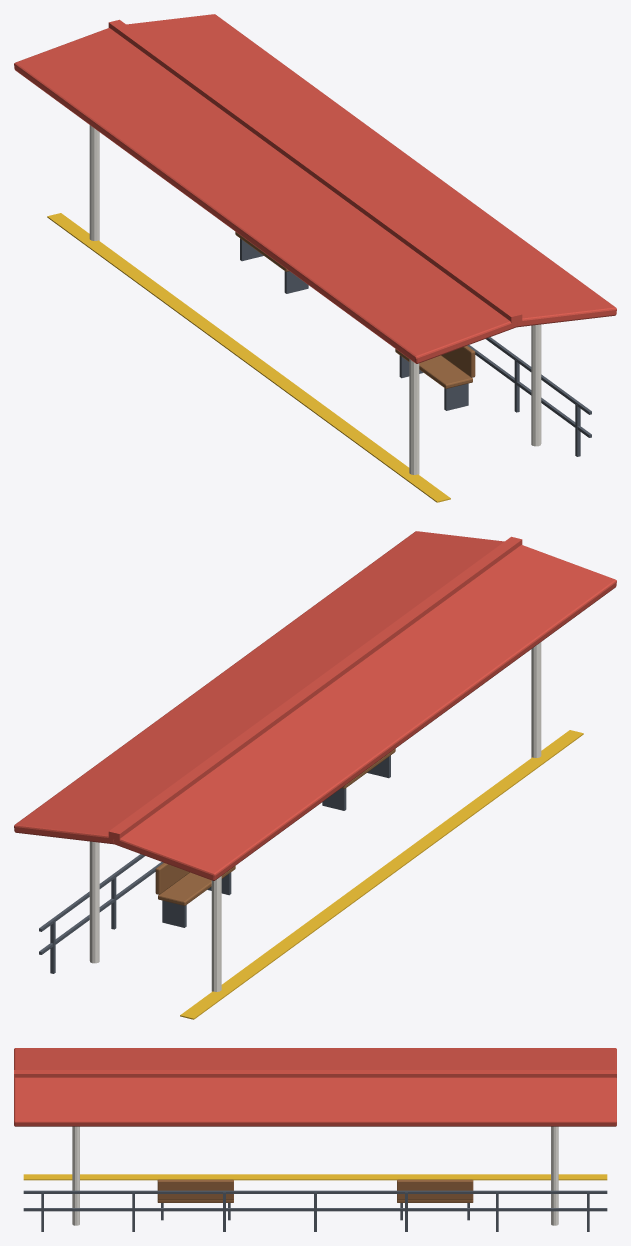
File: station.glb
3 views of the same model, one above another, from view 1: azimuth 30°, elevation 25°; view 2: azimuth 150°, elevation 25°; view 3: azimuth 270°, elevation 25° (orthographic). The views are drawn at different scales.
Visible parts, largest first — view 1: body; view 2: body; view 3: body.
Boxes of the visible parts, box(x1,y1,x2,y2) form: body: box(14, 14, 616, 502); body: box(14, 531, 616, 1019); body: box(14, 1048, 616, 1231).
Bounding box in the file's own units: 3.65 × 3 × 12.6.
